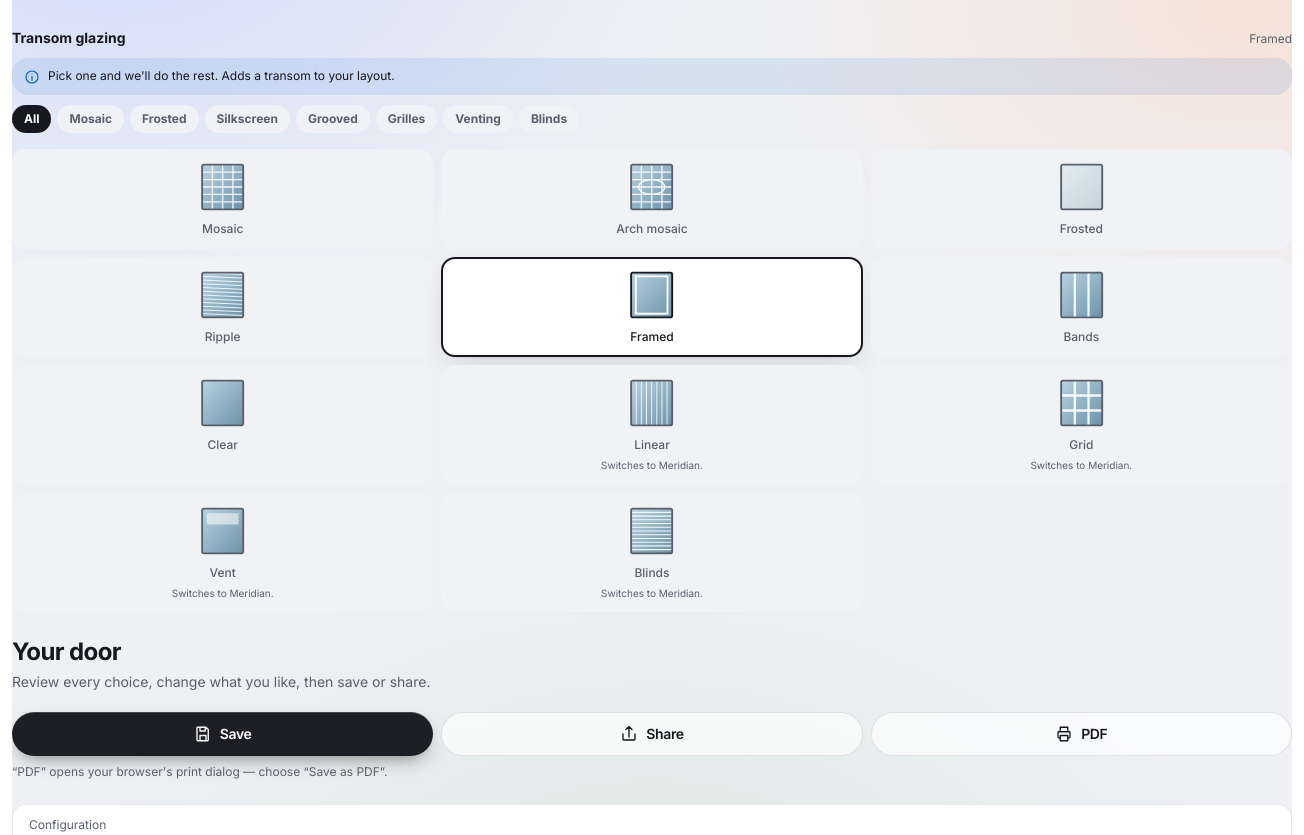
it: every component reflects the same active configuration › locked groups stay usable: they say what choosing will do, and doing it unlocks them
(page scrolled)
Click the radio button labelled "Clear" at point(223, 425), box [12, 365, 433, 485]
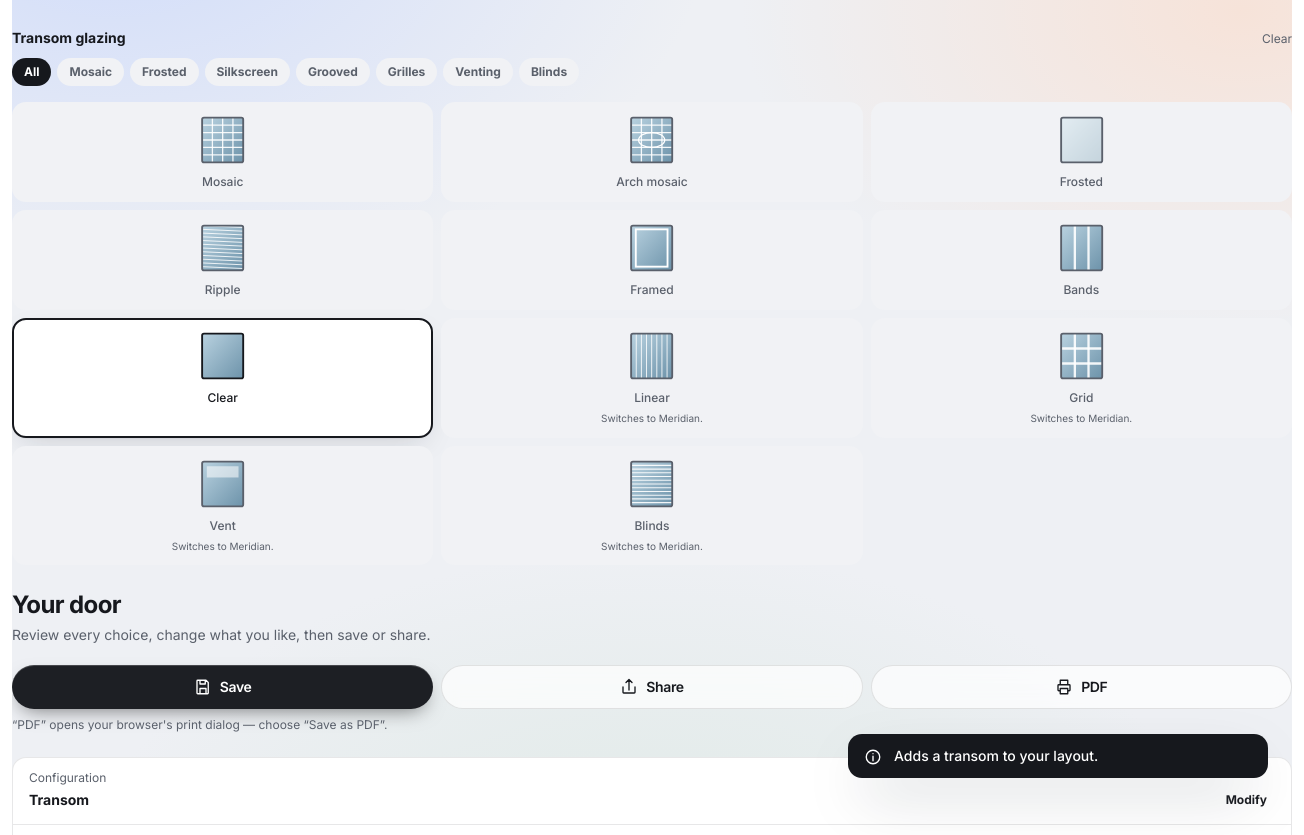
Expected: the text "Adds a transom to your layout." is shown, [894, 746, 1098, 766]
Expected: the text "Pick one and we.ll do the rest. Adds a transom" is gone
